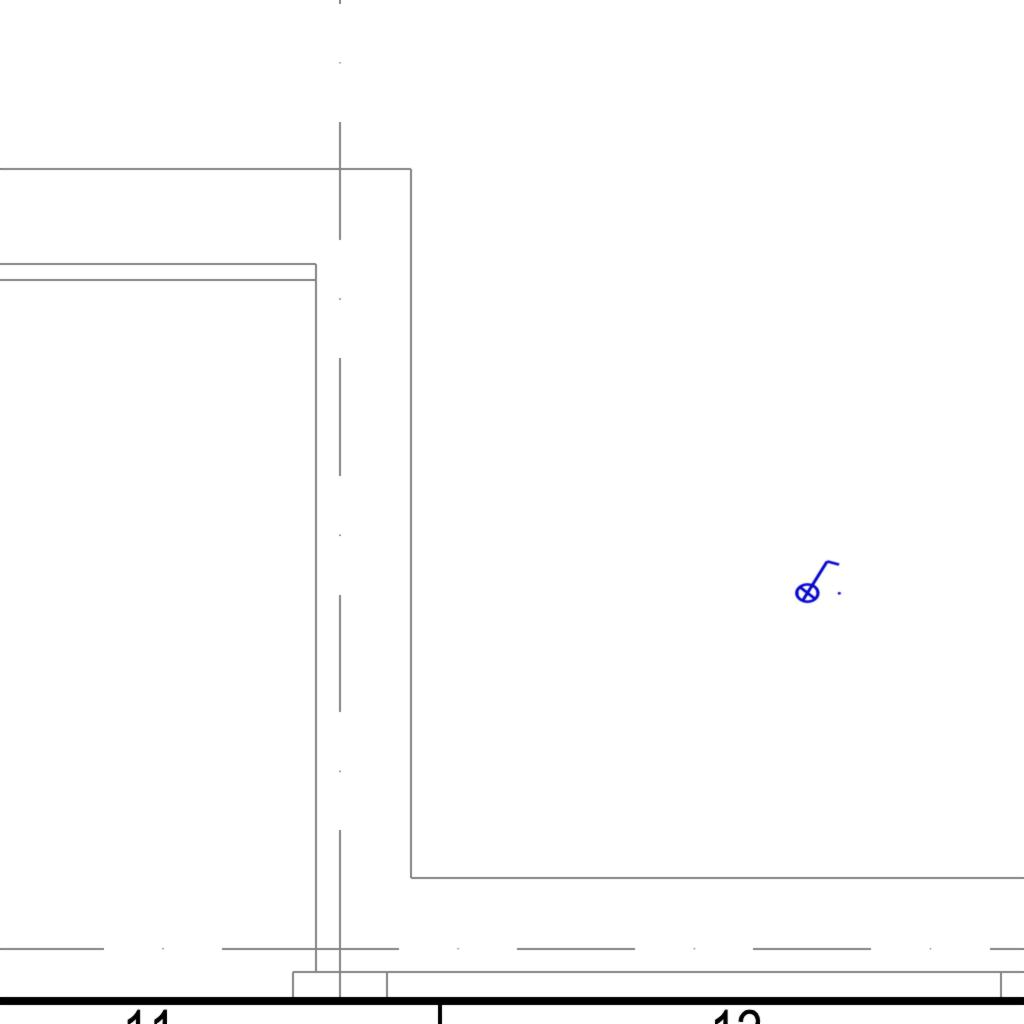Ausschalter_beleuchtet: (788, 556, 844, 604)
